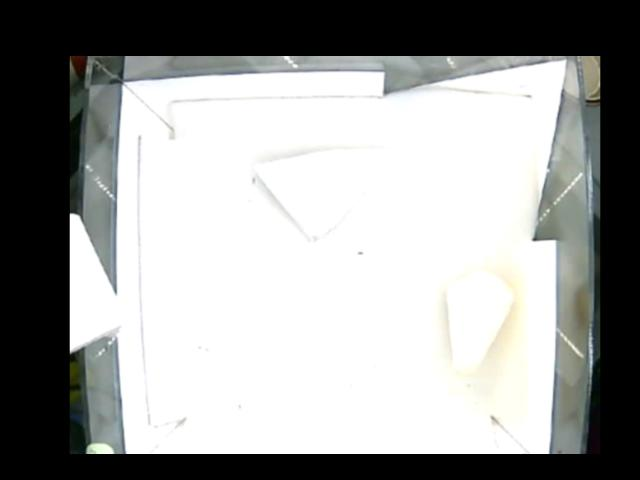China: (252, 150, 398, 241)
Mooli: (444, 271, 514, 374)
